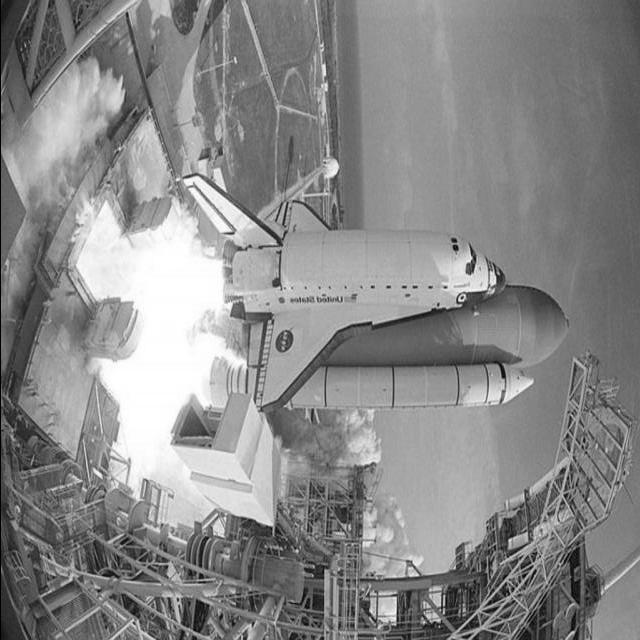missile: (219, 357, 536, 415)
